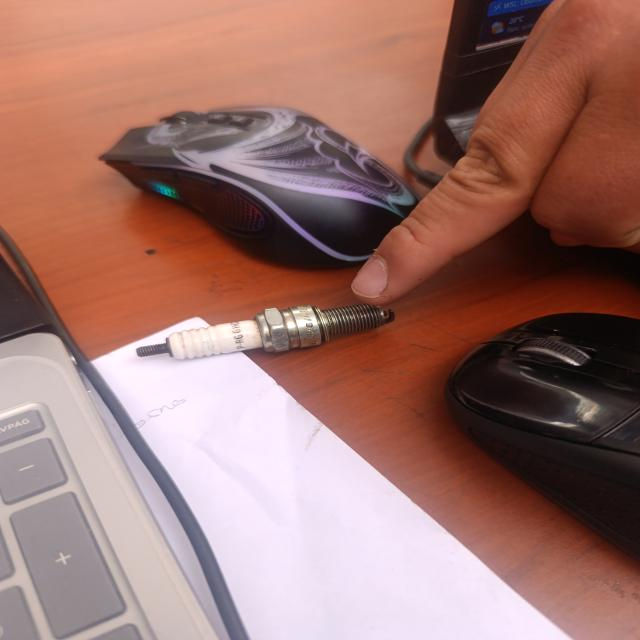bujia: (136, 304, 395, 359)
